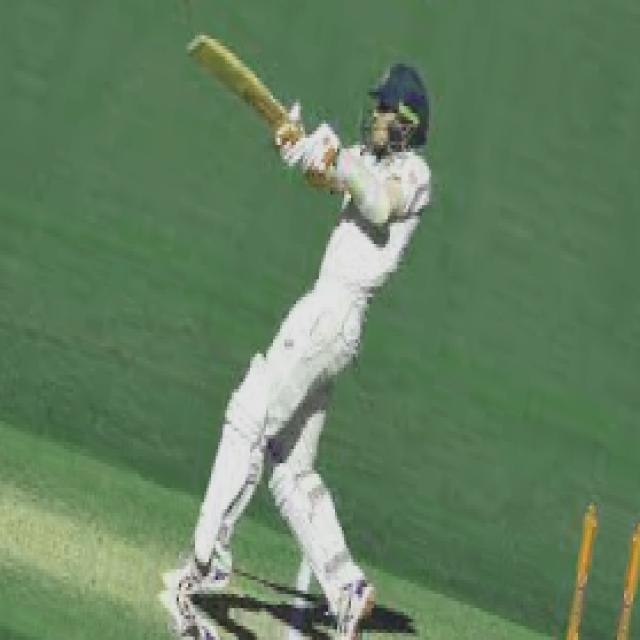toe: (182, 37, 213, 58)
